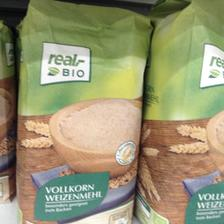Mehl: (13, 0, 150, 222), (135, 0, 223, 216)
